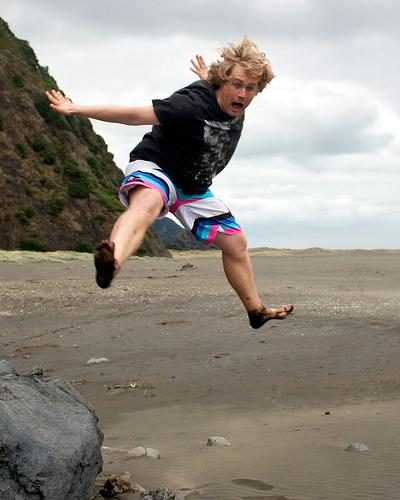person: (44, 44, 292, 333)
